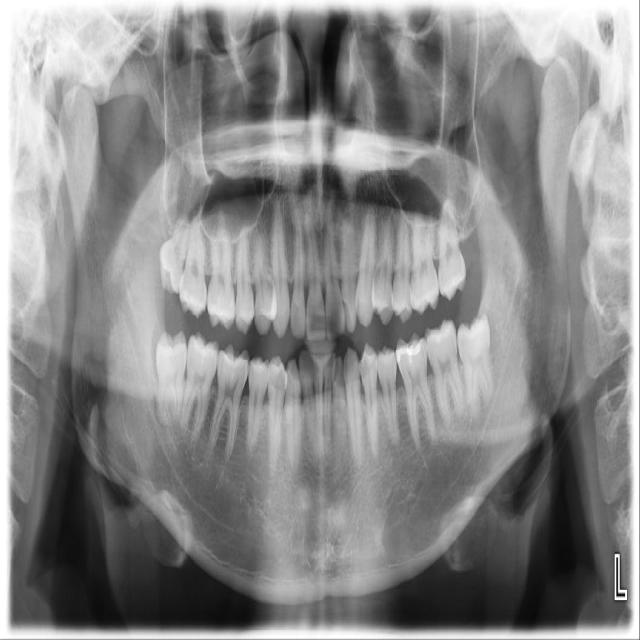Filling: (393, 338, 424, 364)
impacted tooth: (456, 313, 499, 415), (155, 331, 187, 429)
